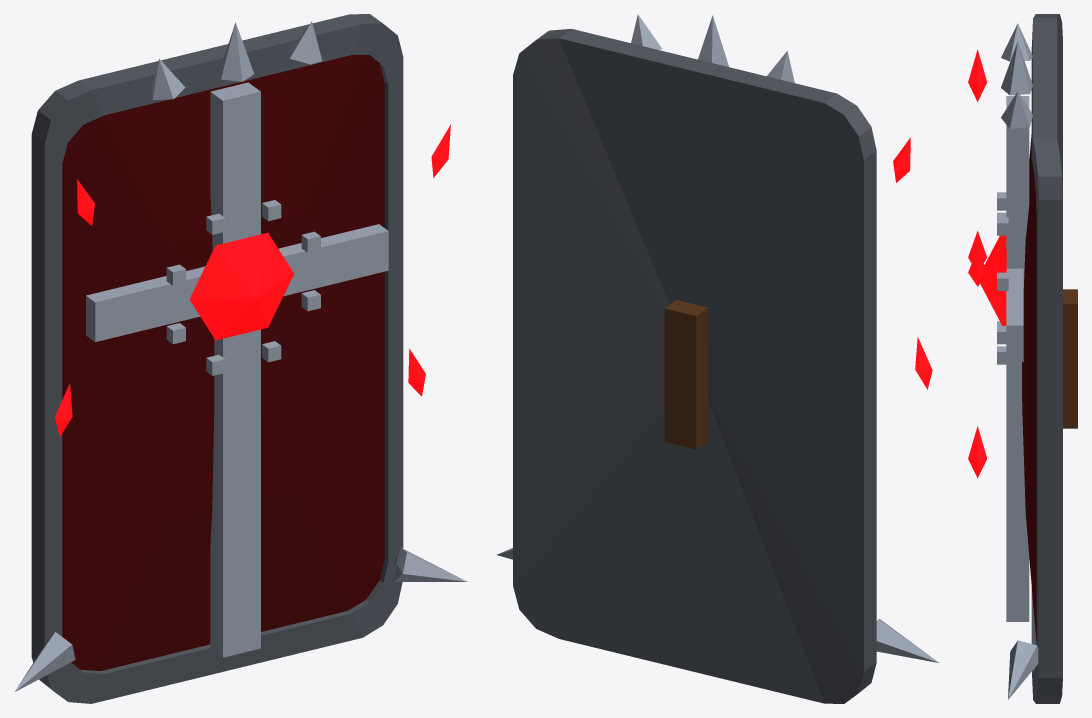
Rendered from shield_tower_mythic.glb.
3 views of the same model, side by side, from view 1: azimuth 30°, elevation 25°; view 2: azimuth 150°, elevation 25°; view 3: azimuth 270°, elevation 25° (orthographic). The views are drawn at different scales.
Visible parts, largest first — view 1: shield_tower_mythic_export; view 2: shield_tower_mythic_export; view 3: shield_tower_mythic_export.
Part boxes in pixels (left/top/right/bottom): shield_tower_mythic_export: left=15, top=14, right=467, bottom=703; shield_tower_mythic_export: left=497, top=14, right=938, bottom=703; shield_tower_mythic_export: left=968, top=14, right=1077, bottom=703.
Size of the model in its own units: 83.47 by 115 by 19.18.
